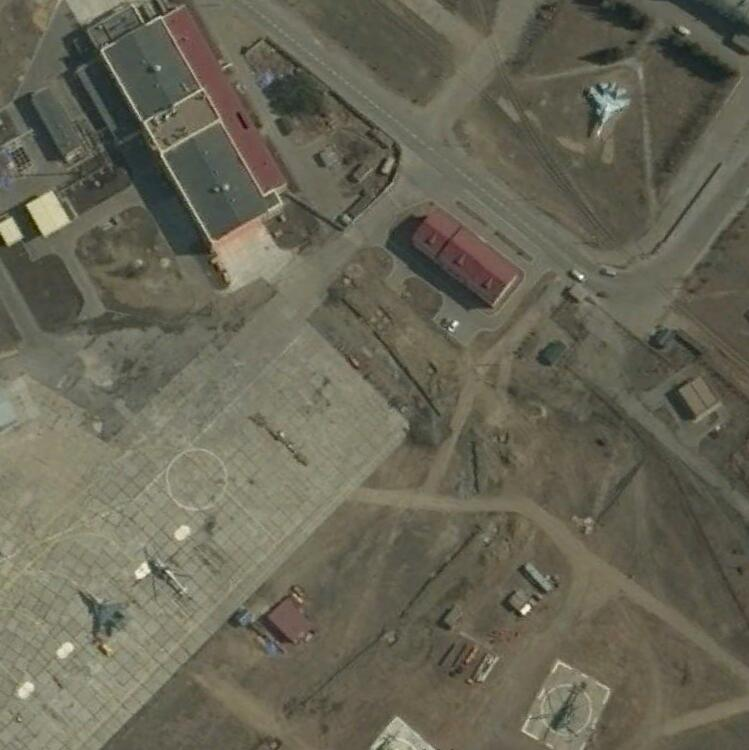A19: (74, 584, 129, 640), (586, 80, 630, 136)
